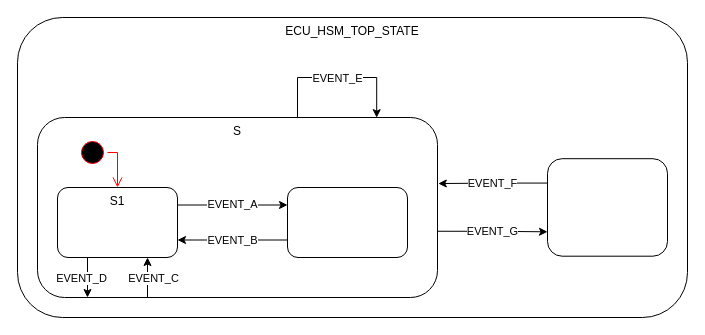
This 705x335 diagram has some shape labels left out. The centre of each missing label's shape, as x and y in pixels:
"S12" belongs at point (347, 222).
"S2" belongs at point (607, 207).
